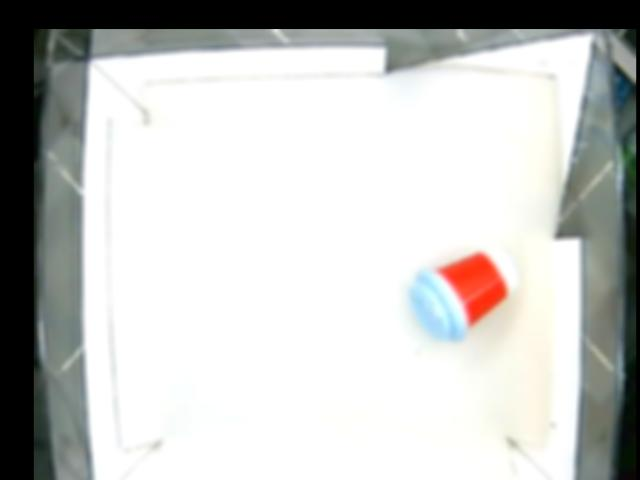Cup: (407, 249, 517, 342)
